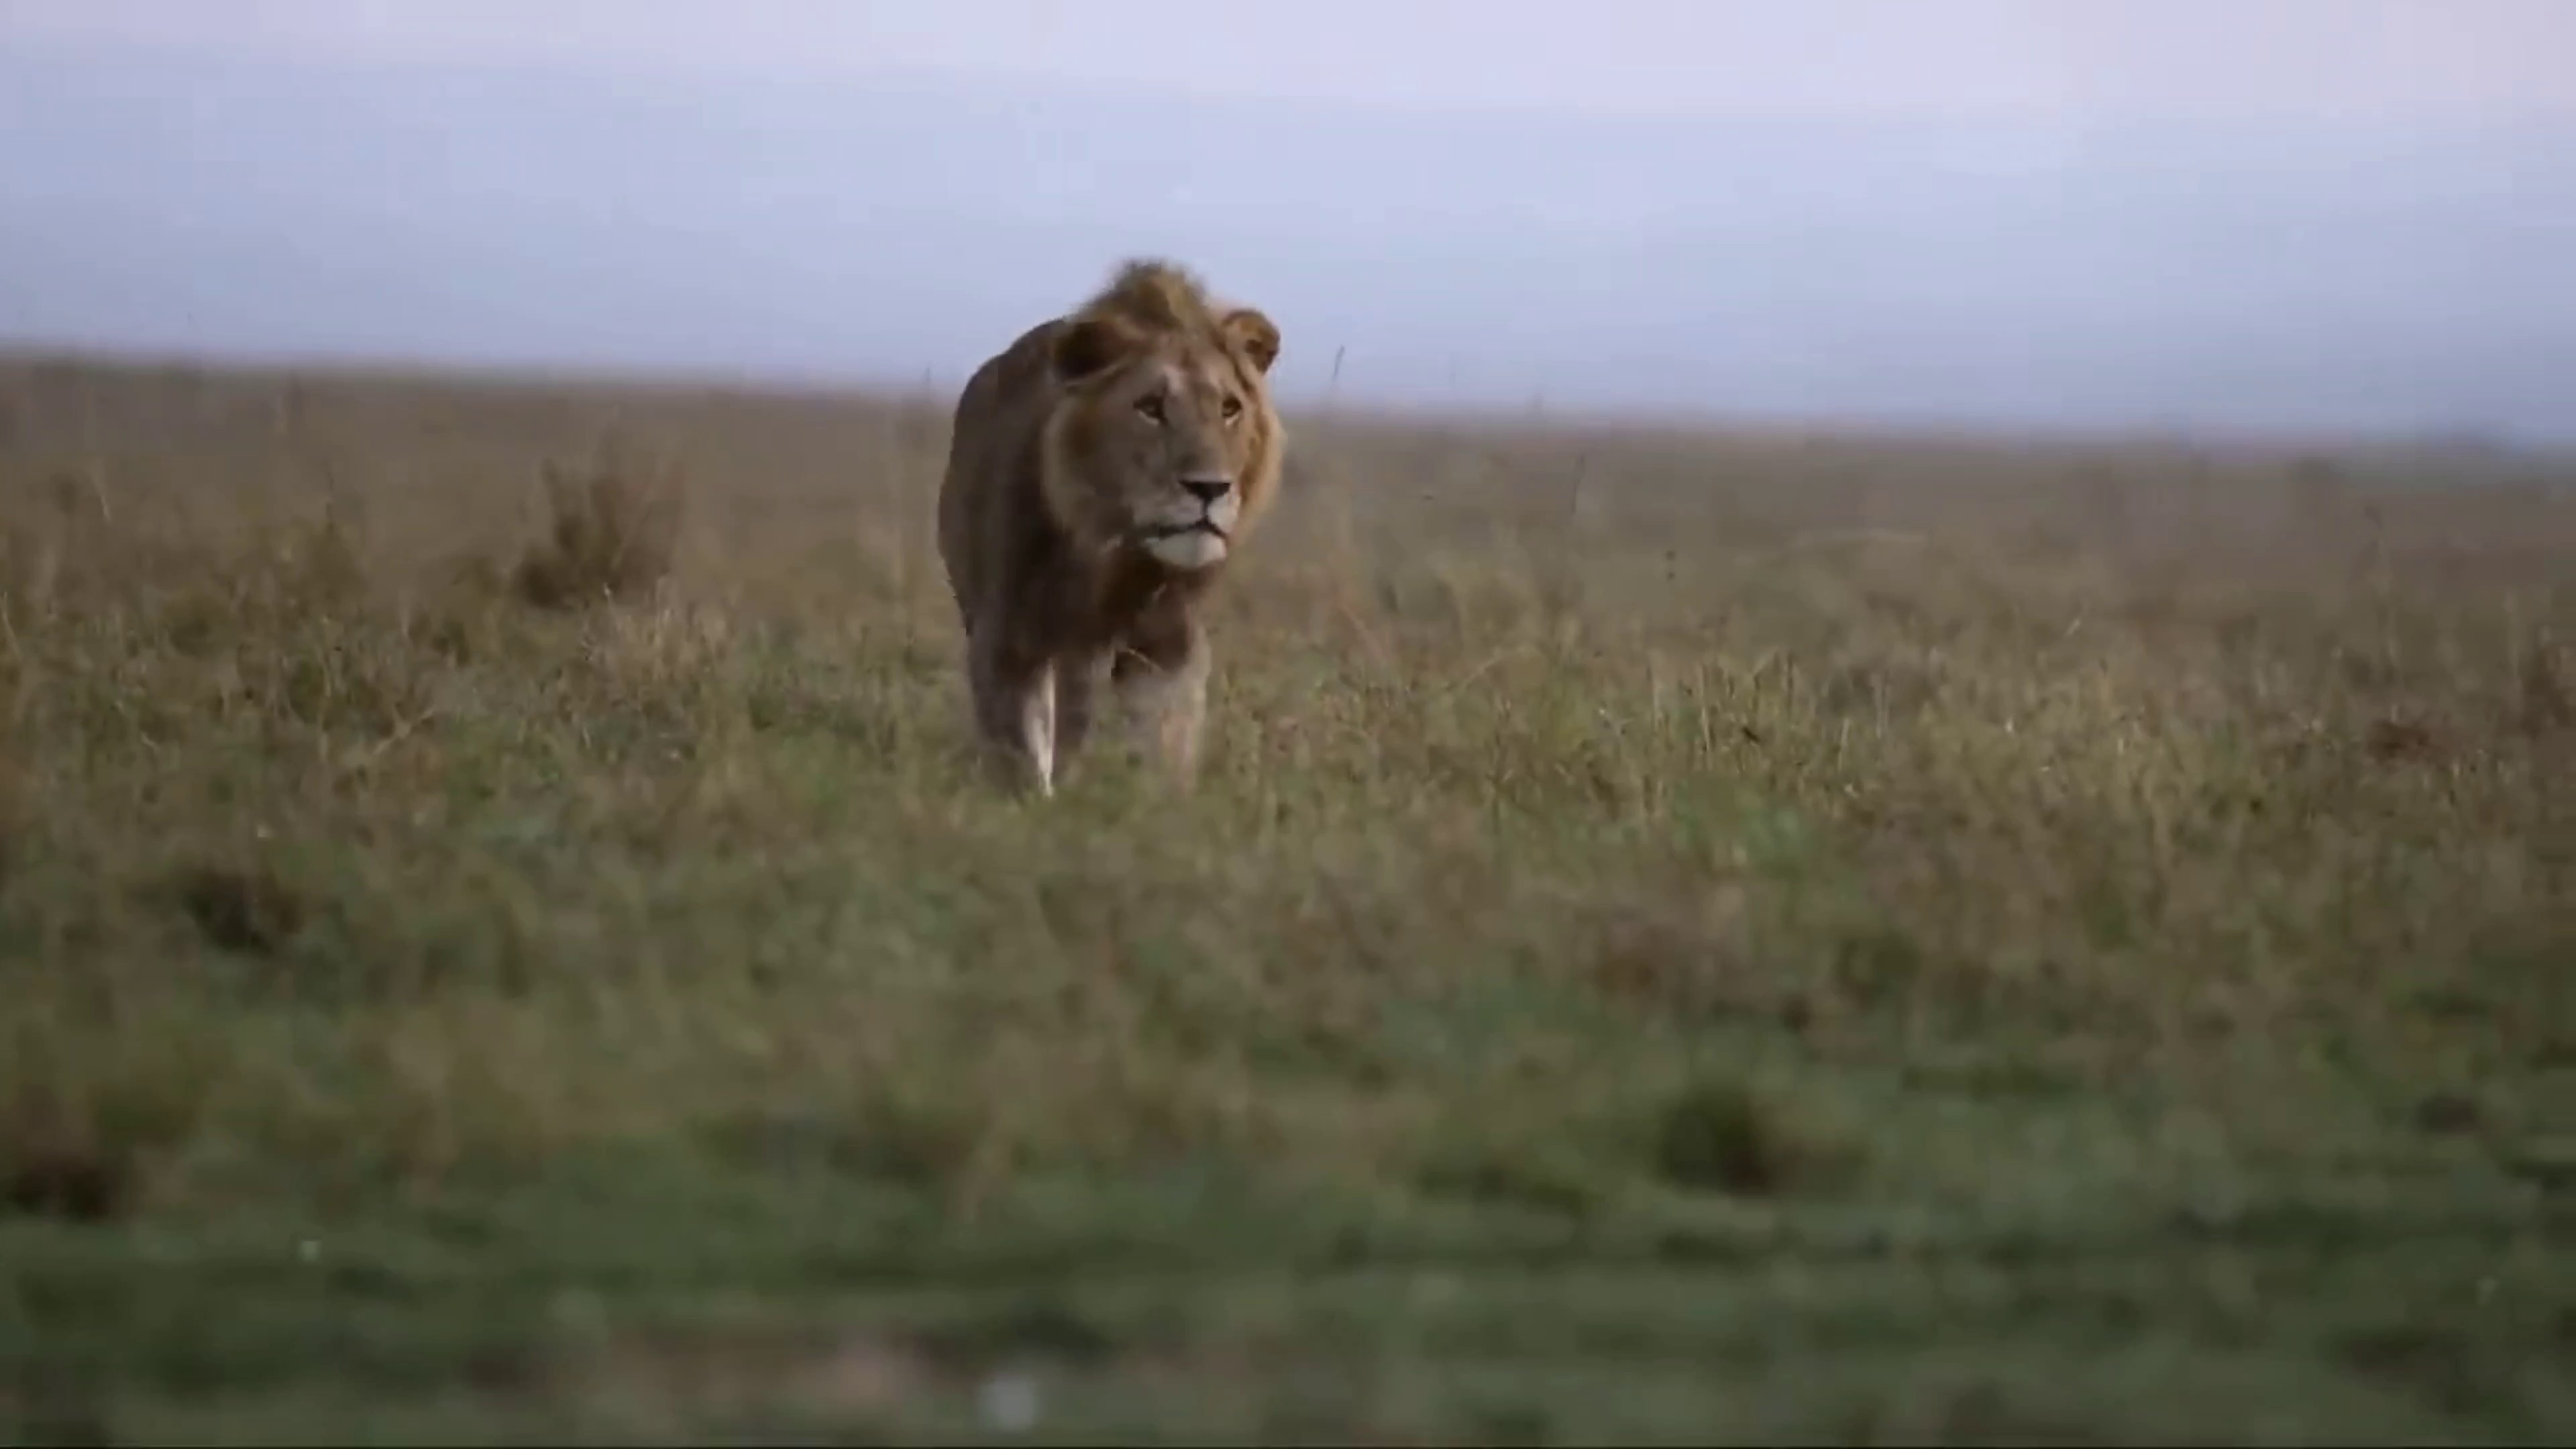Lion: (938, 262, 1284, 801)
